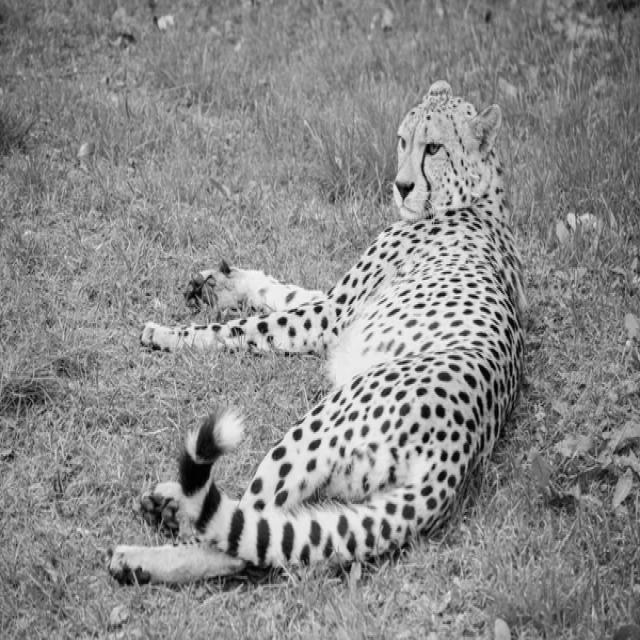Animal: (108, 83, 526, 584)
